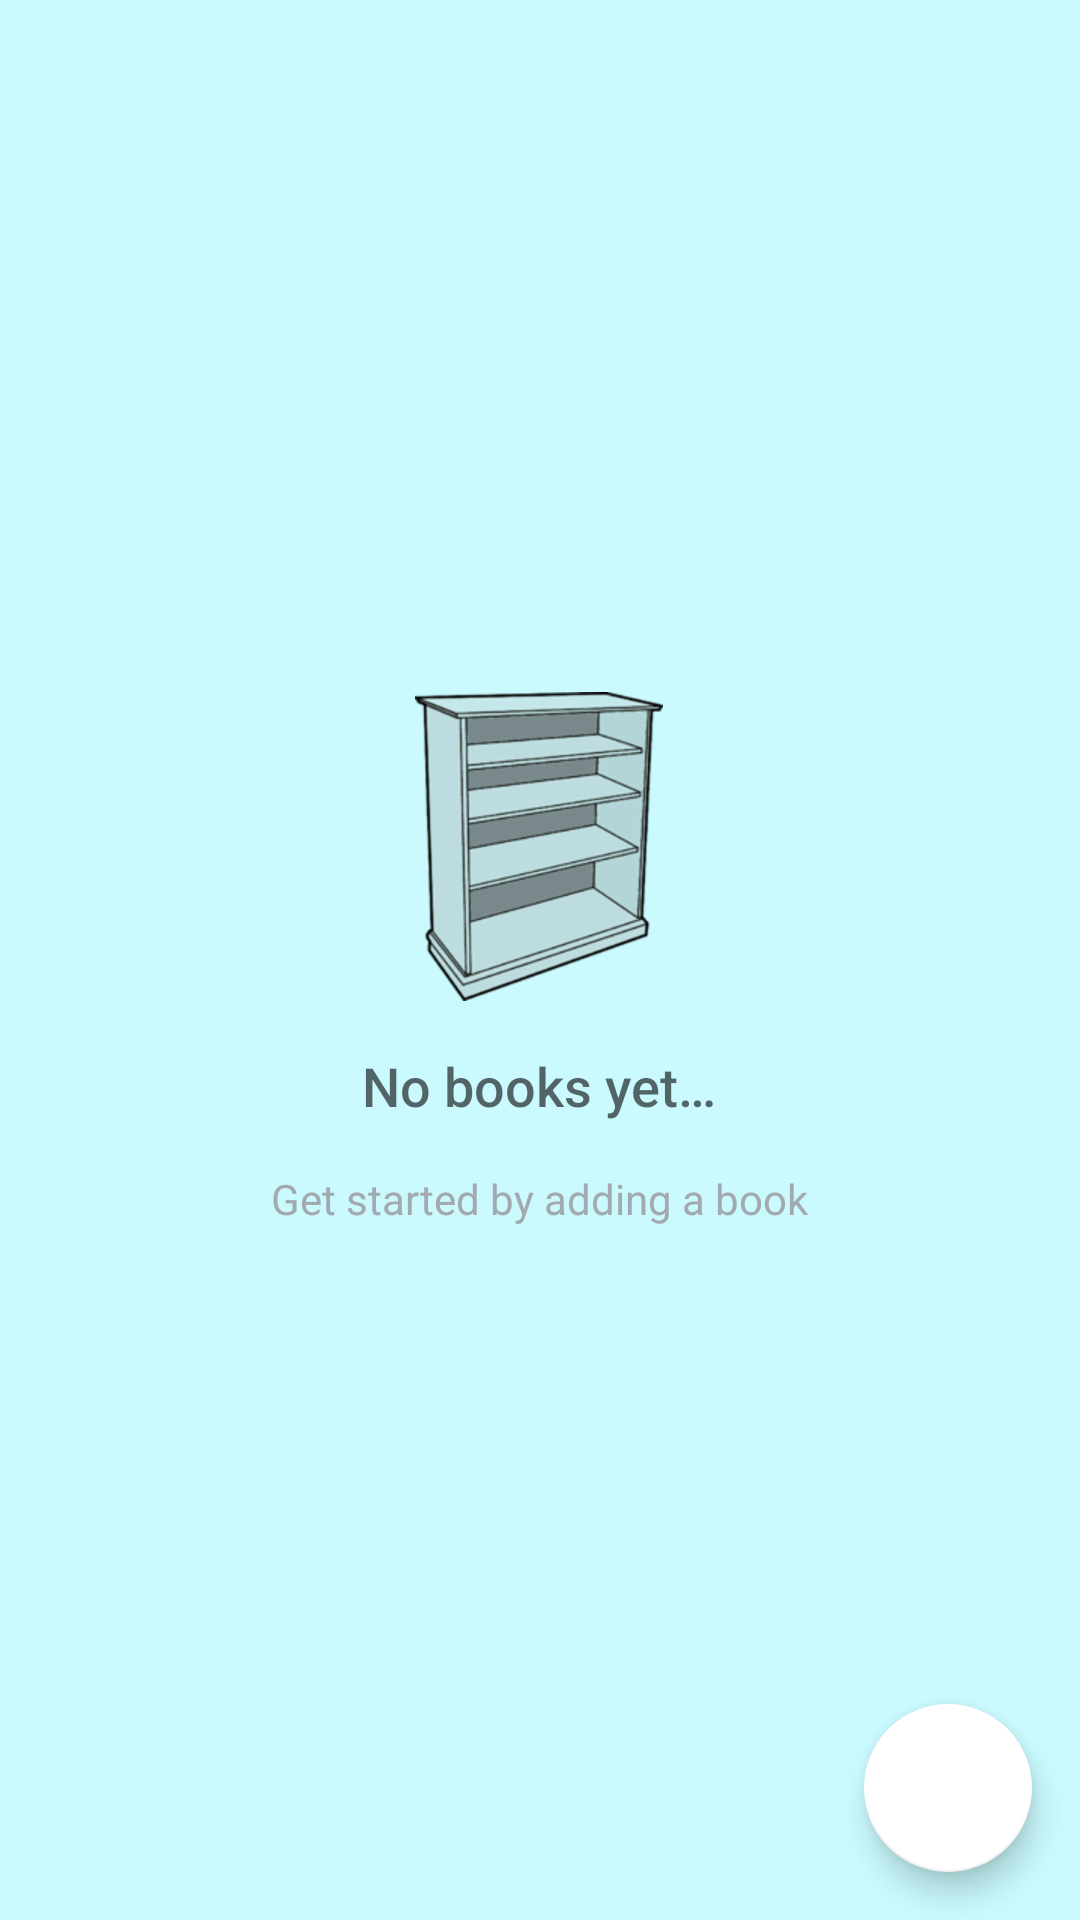

Screen size 1080px x 1920px. Icon name, then its box in pixels as [x1,y1,x2,y2]:
book shelf: [415,692,663,1001]
